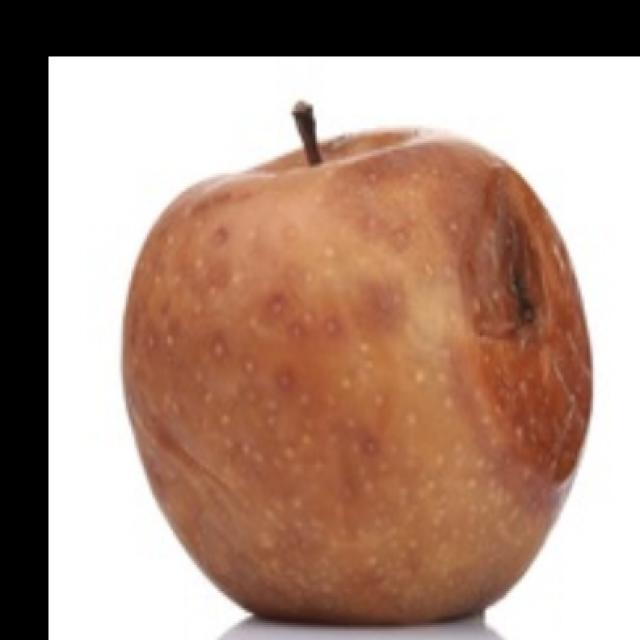Rotten: (103, 146, 603, 640)
